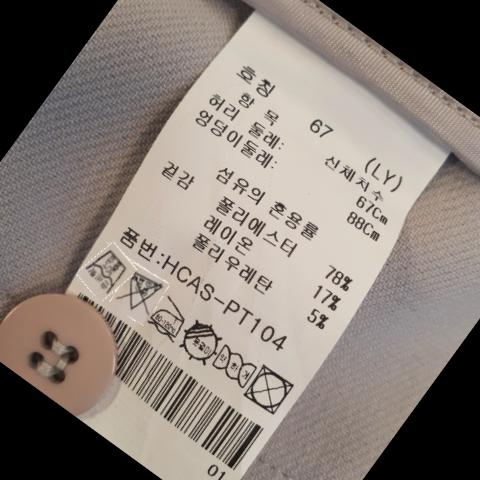DN_bleach: (128, 270, 164, 311)
DN_tumble_dry: (244, 363, 299, 414)
hand_wash: (84, 250, 129, 297)
iron_low: (151, 296, 190, 341)
line_dry_in_shade: (181, 319, 220, 364)
wring: (215, 349, 261, 383)
